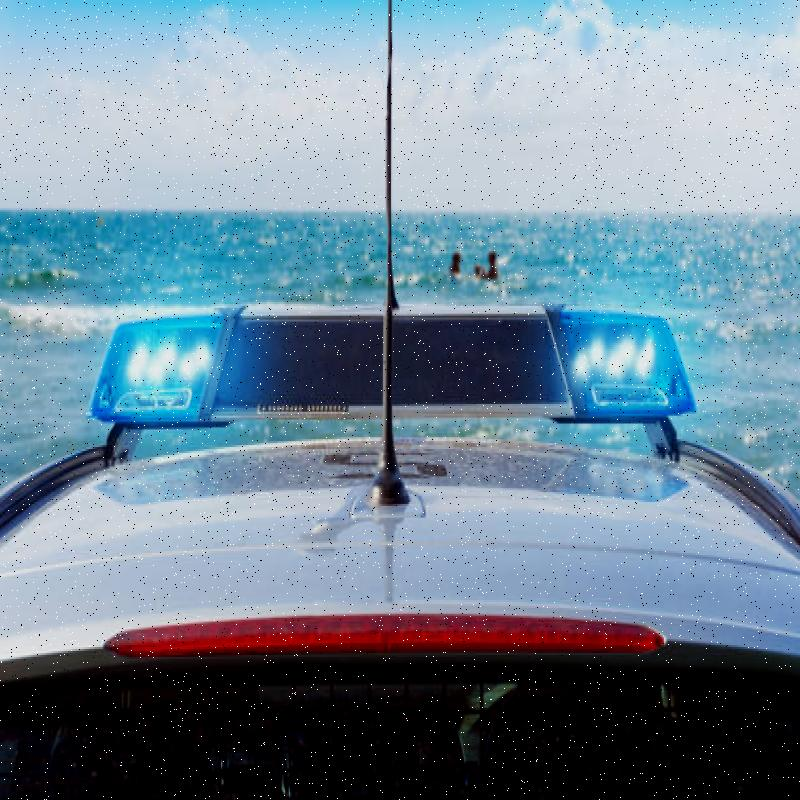AmbulanceSiren: (87, 258, 700, 457)
